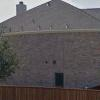Chimney: (11, 1, 31, 15)
